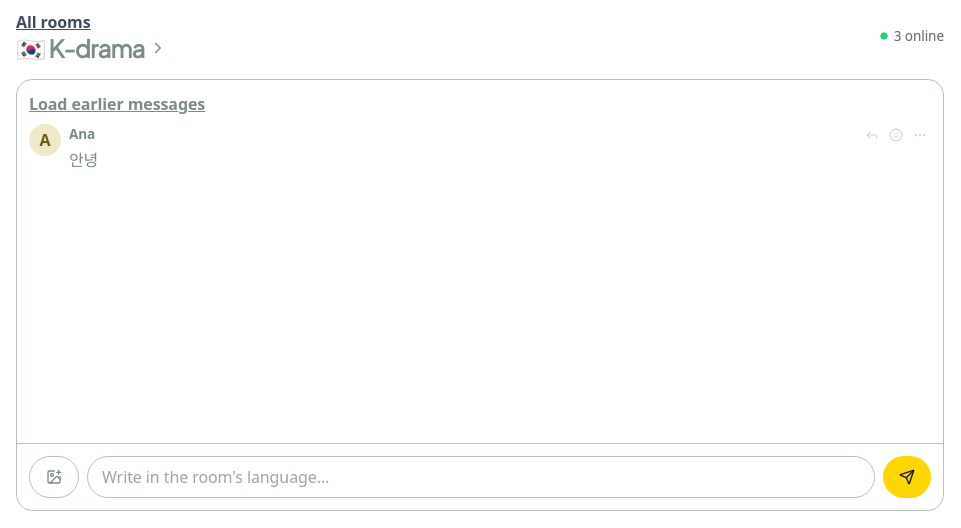
Scenario: a refused send keeps the text and says why
Type "spam" into the field with test id "language-room-input" at [481, 477], box [87,456,875,498]
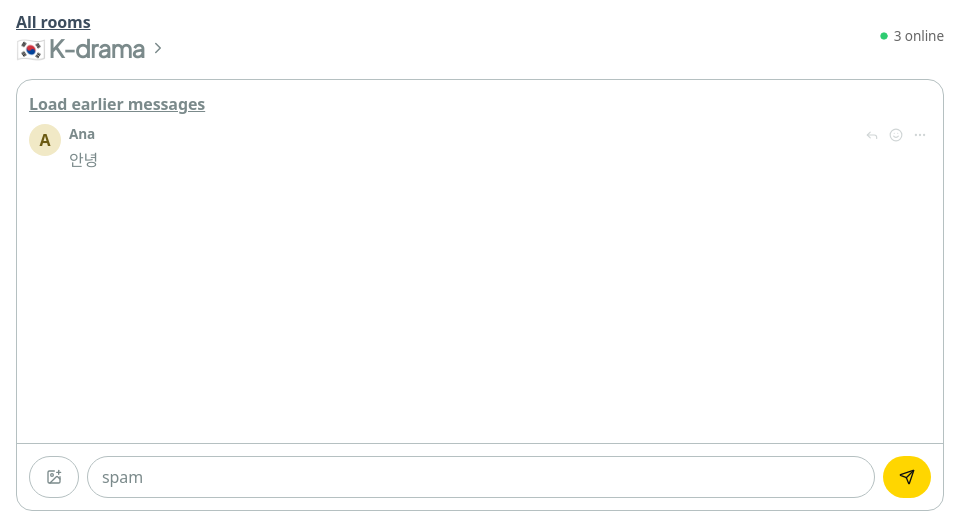
Click the button with test id "language-room-send" at [907, 477], box [883,456,931,498]
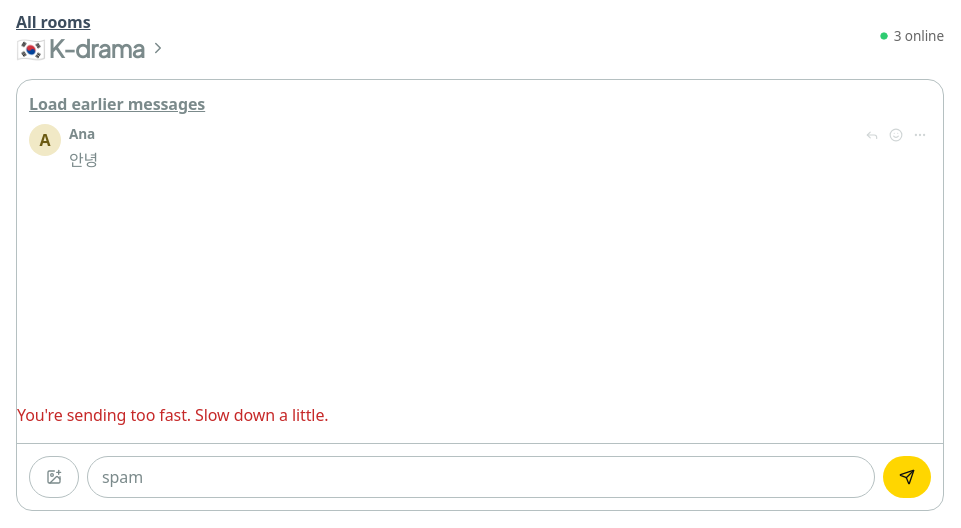
Expected: the message with test id "language-room-send-error" shows "Slow down", [17,404,328,426]
